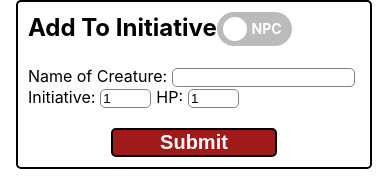
Test: add form › toggles to PC properly
The image size is (389, 186).
Click the checkbox with test id "addplayer-type": (235, 29) [223,17,247,41]
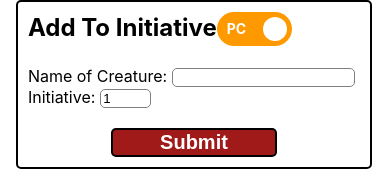
Expected: the label labelled "HP:" is gone
